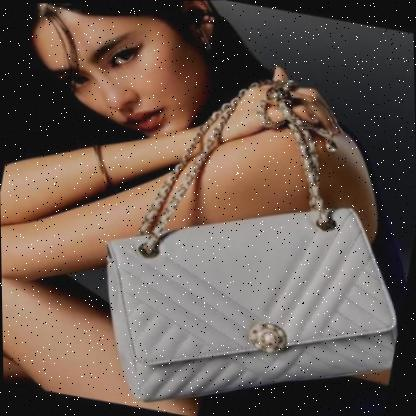bag: (100, 197, 403, 399)
